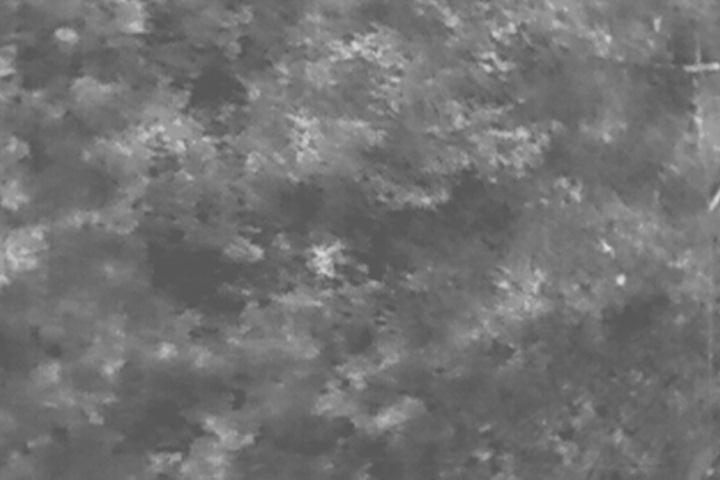landmine: (308, 239, 346, 281)
